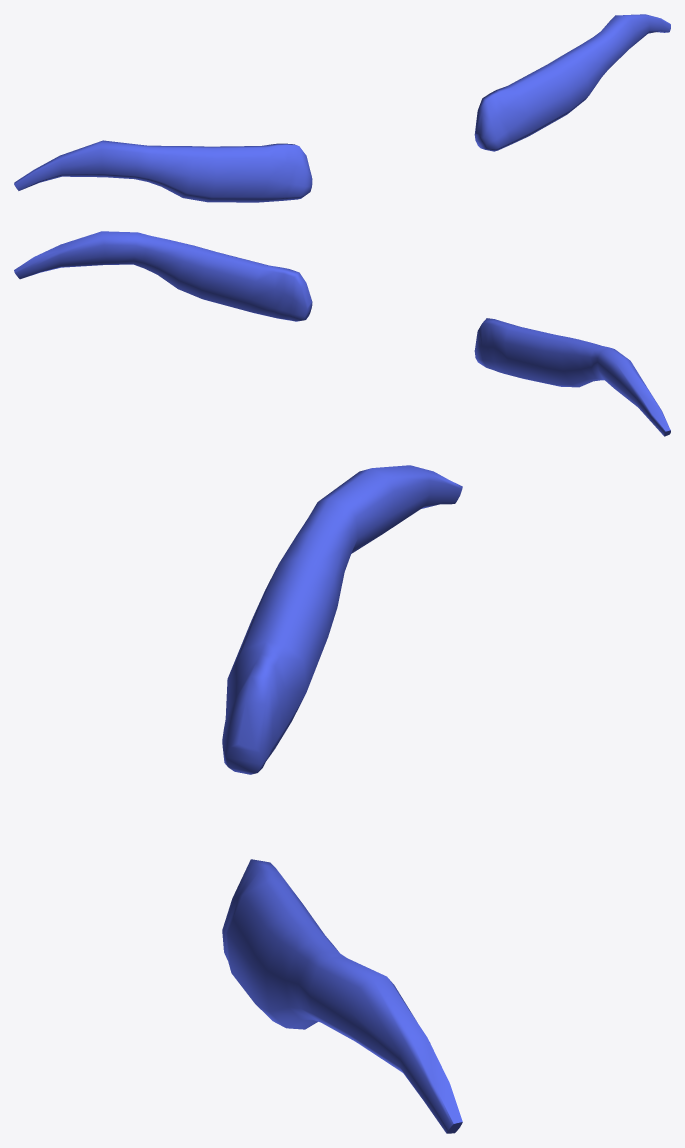
The model's file is Eyebrows_06_03.fbx.
3 views of the same model, one above another, from view 1: azimuth 30°, elevation 25°; view 2: azimuth 150°, elevation 25°; view 3: azimuth 270°, elevation 25° (orthographic). The views are drawn at different scales.
Visible parts, largest first — view 1: Eyebrows_06_03; view 2: Eyebrows_06_03; view 3: Eyebrows_06_03.
Part boxes in pixels (<box>): Eyebrows_06_03: <box>14,14,670,202</box>; Eyebrows_06_03: <box>14,231,670,436</box>; Eyebrows_06_03: <box>222,465,462,1133</box>.
Size of the model in its own units: 19.46 by 2.04 by 3.09.
